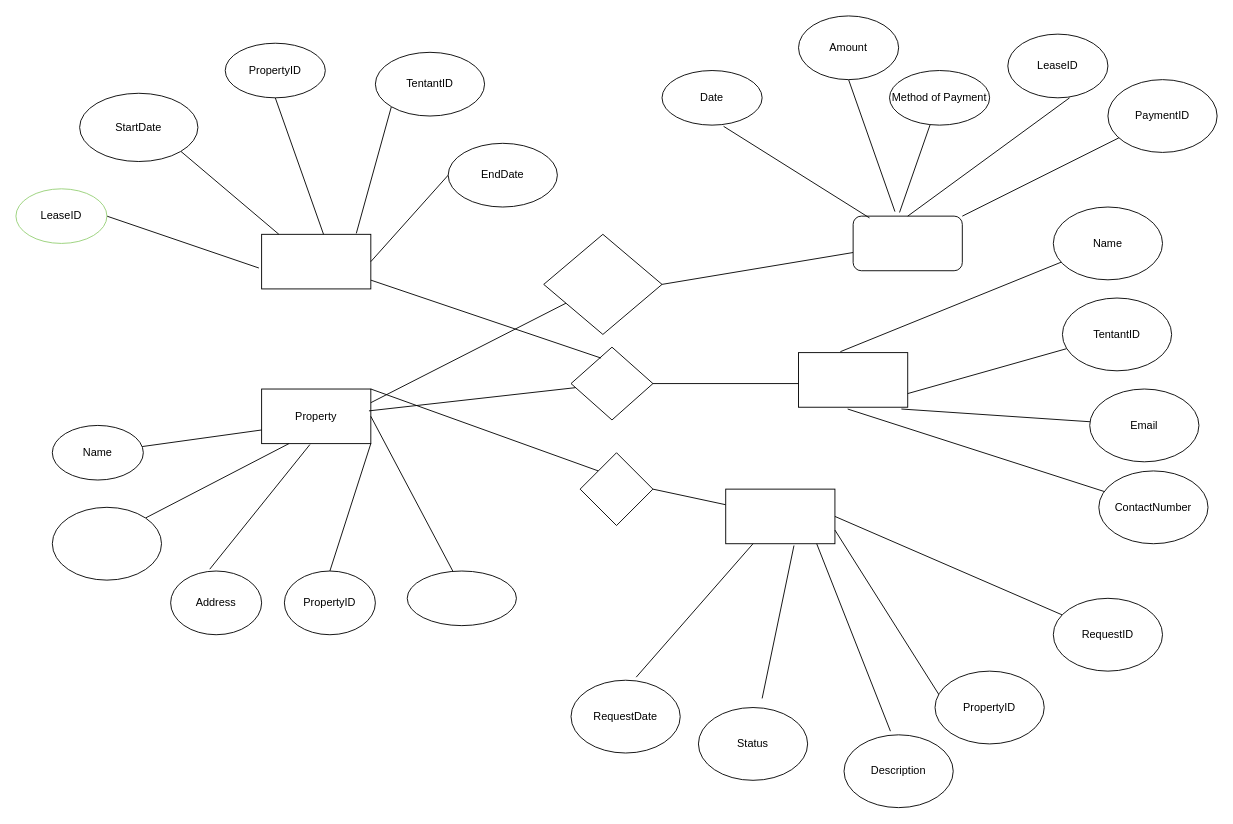
The diagram is 1233 pixels wide and 824 high, and some of its shapes have lost their labels. Here are the shapes that lost their labels. From the top down, the box of each, then its label:
(261, 233, 371, 289): Lease
(852, 215, 962, 271): Payment
(543, 233, 662, 334): Real Estate Management
(570, 346, 653, 420): used has
(798, 352, 908, 407): Tentant
(579, 452, 653, 526): do
(725, 488, 835, 544): Maintenance Request
(51, 506, 162, 580): Square feet(size)
(406, 570, 516, 626): Land/Building
